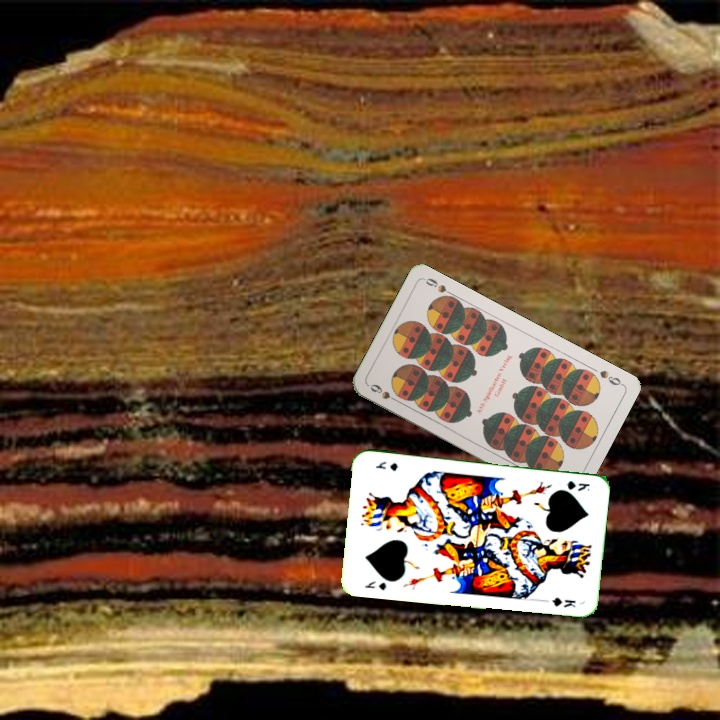GK: (563, 477, 592, 493), (361, 577, 389, 593)
S9: (366, 380, 403, 406), (595, 366, 626, 388)
